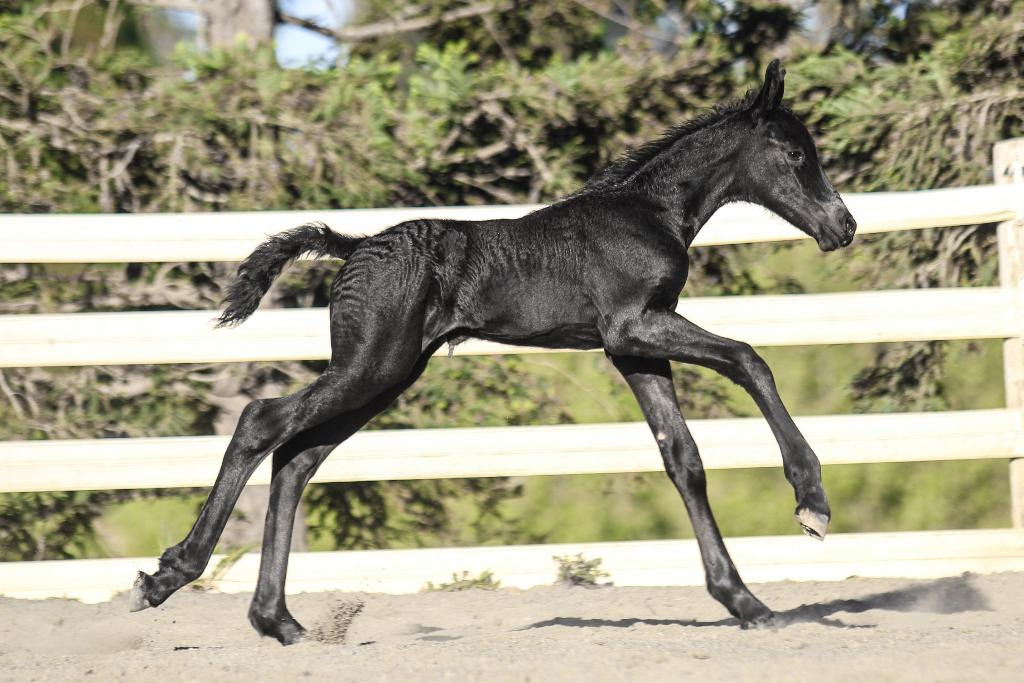horse: (127, 58, 860, 647)
